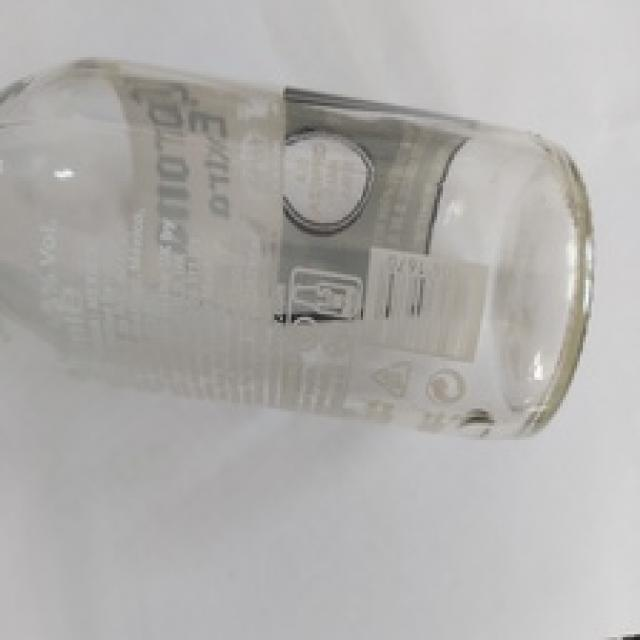glass-bottle: (1, 43, 607, 455)
